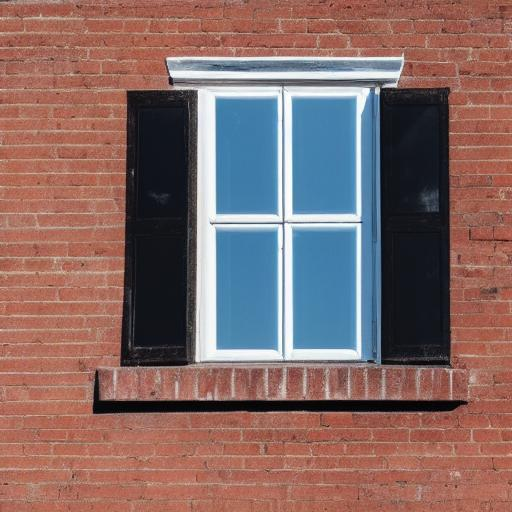Window: (91, 53, 477, 405)
